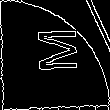M_W: (30, 32, 80, 78)
